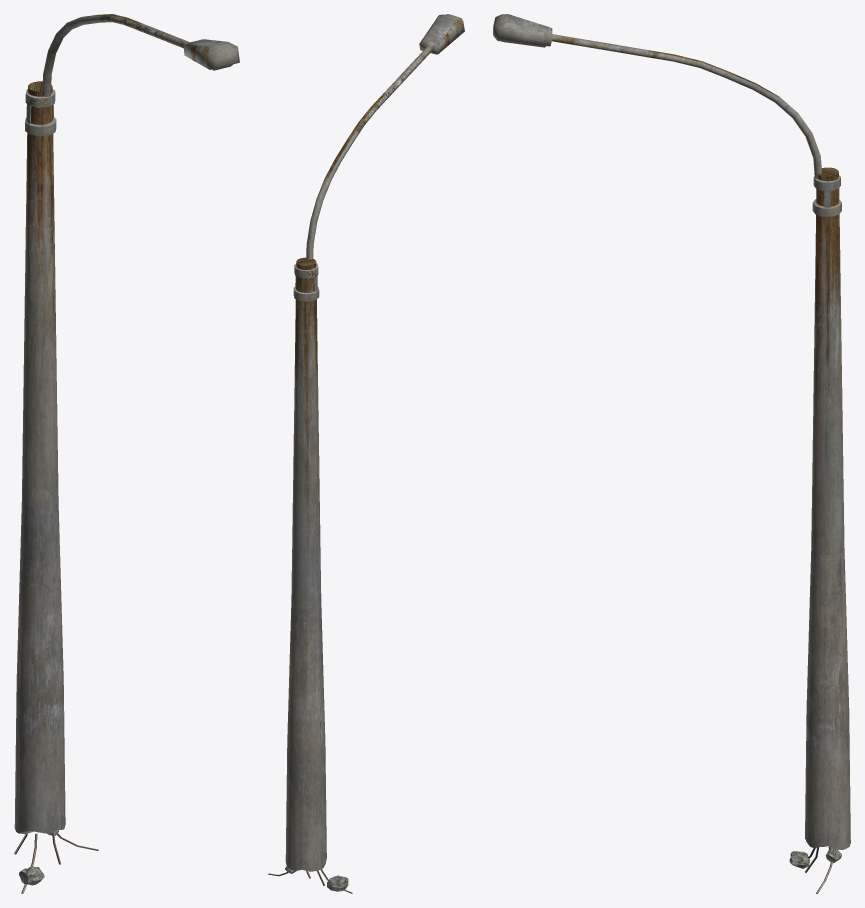
The model's file is RoadLamp3_2b.FBX.
3 renders of one model, left to right at view 1: azimuth 30°, elevation 25°; view 2: azimuth 150°, elevation 25°; view 3: azimuth 270°, elevation 25°, orthographic. The views are drawn at different scales.
Visible parts, largest first — view 1: LampPillar, LampMetall, Debris; view 2: LampPillar, LampMetall, Debris; view 3: LampPillar, LampMetall.
Part boxes in pixels (x1=…): LampPillar: x1=14, y1=81, x2=65, y2=834; LampMetall: x1=25, y1=14, x2=239, y2=136; Debris: x1=14, y1=830, x2=98, y2=893; LampPillar: x1=285, y1=257, x2=326, y2=871; LampMetall: x1=293, y1=14, x2=464, y2=301; Debris: x1=268, y1=866, x2=352, y2=893; LampPillar: x1=805, y1=167, x2=850, y2=849; LampMetall: x1=493, y1=14, x2=841, y2=216.
Bounding box in the file's own units: 14.88 × 150 × 56.14.
